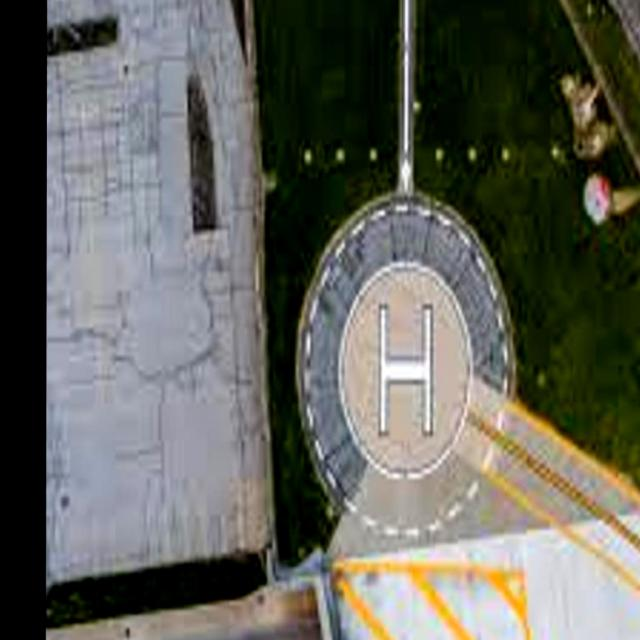helipad: (335, 256, 474, 485)
